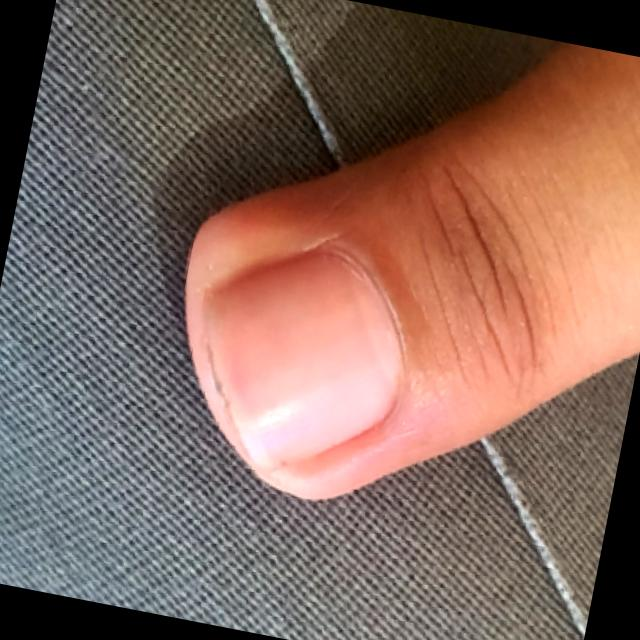Nail: (203, 246, 401, 465)
